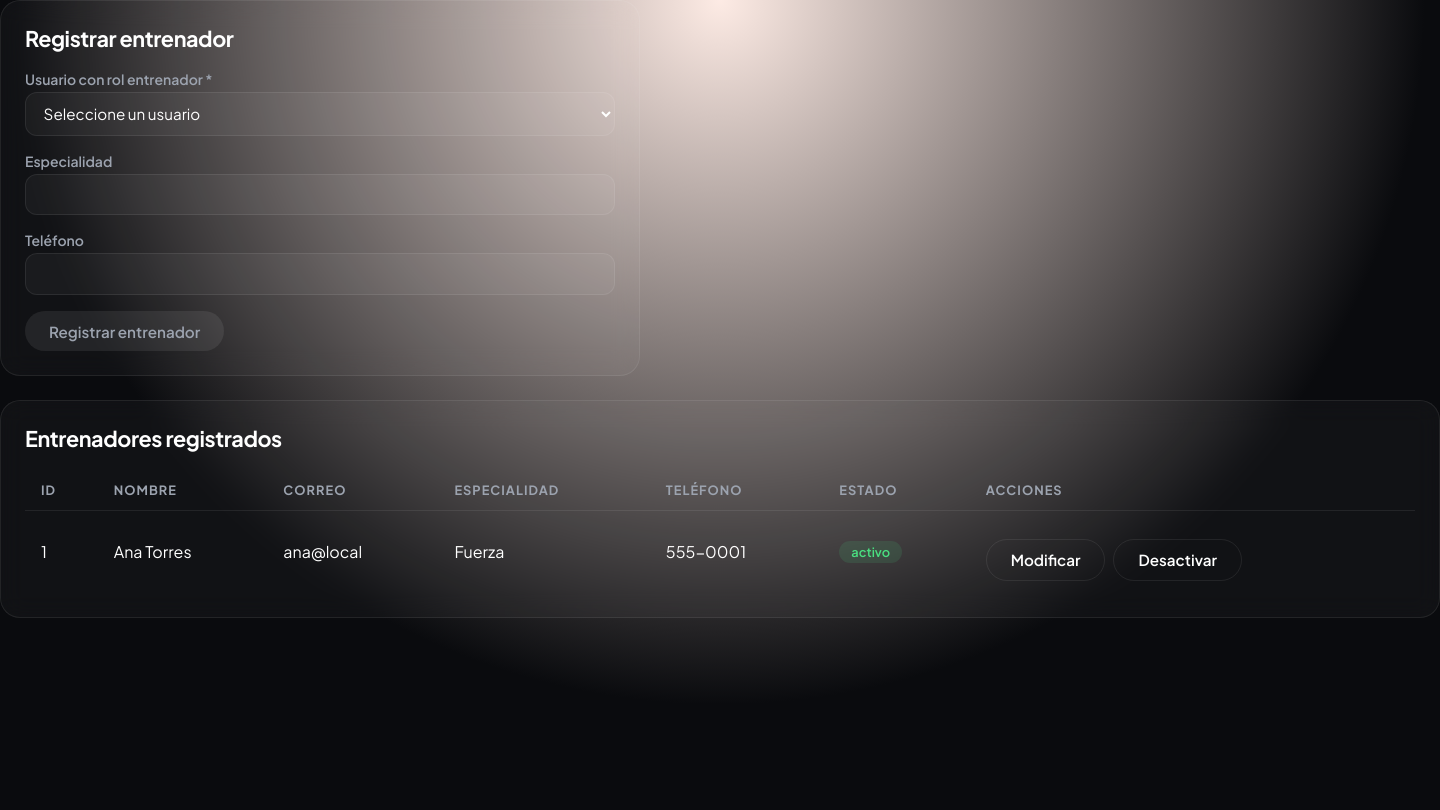
Gestión de entrenadores › registra un entrenador y muestra el mensaje de éxito
This screenshot has width=1440, height=810.
Expected: the text "ana@local" is shown, [267,511,438,593]
Step 1. Select "Ana Torres (ana@local)" in the dropdown labelled "Usuario con rol entrenador *" → (320, 114), box [25,92,615,136]
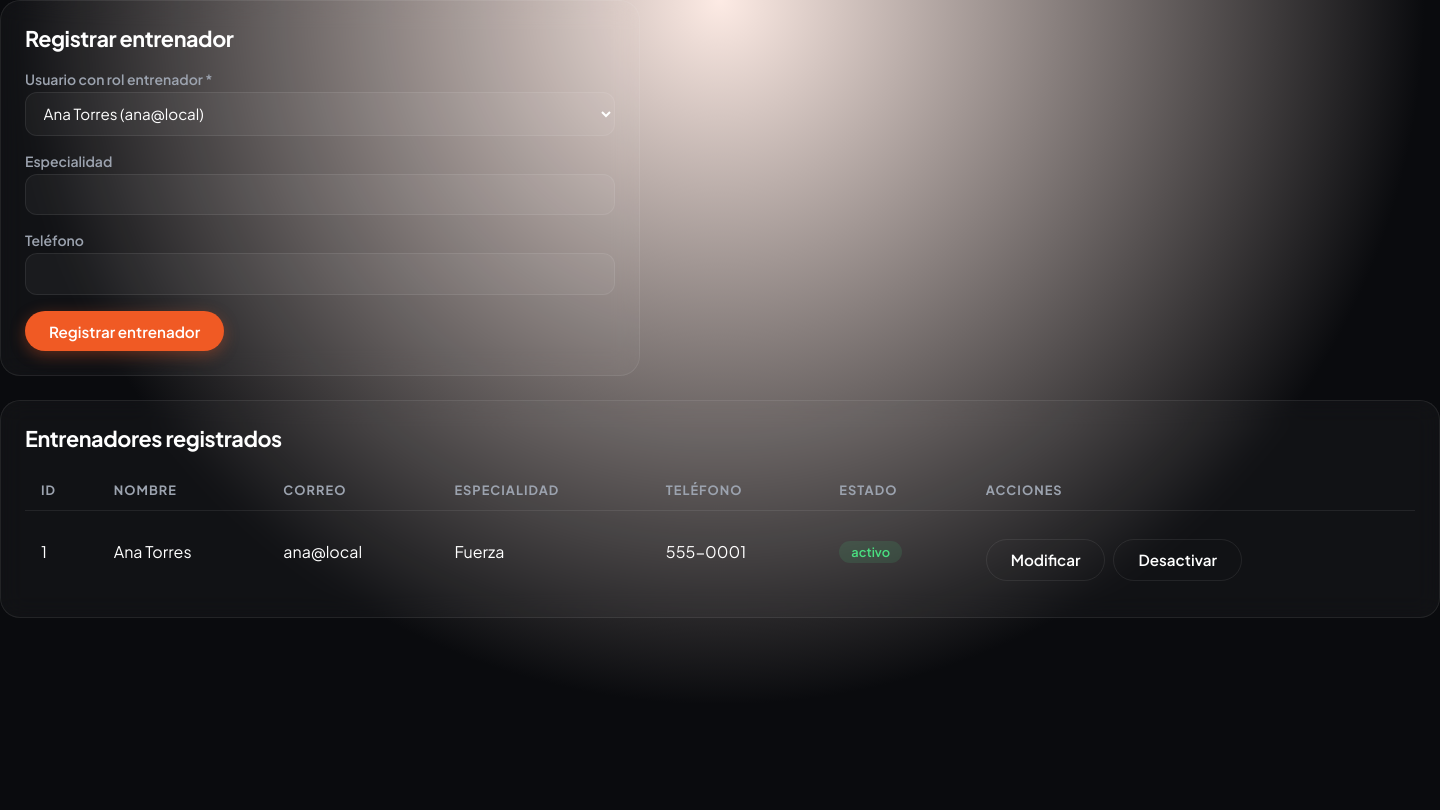
Step 2. Submit the form from the button "Registrar entrenador", box [25,311,224,351]
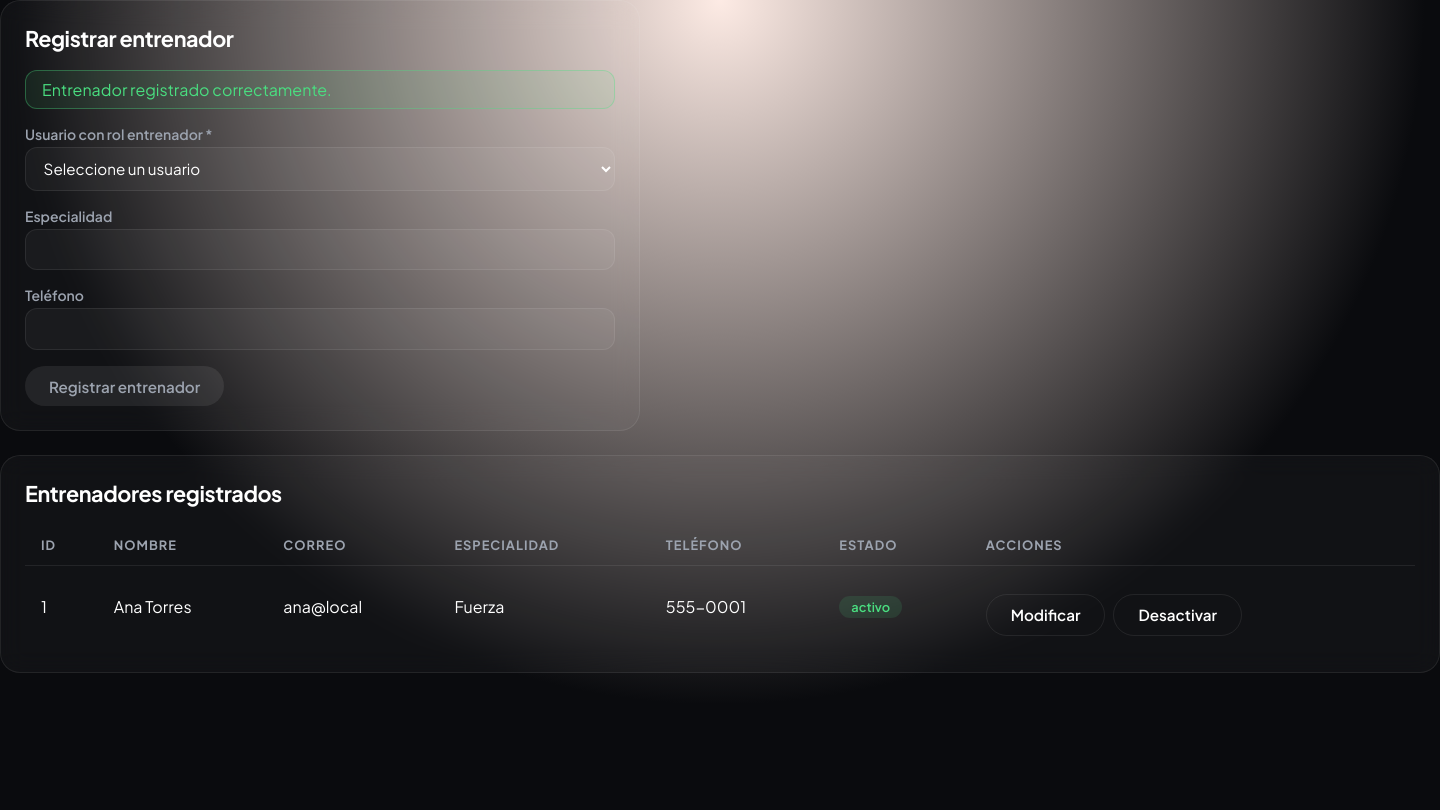
Expected: the text "Entrenador registrado correctamente." is shown, [25,70,615,109]
